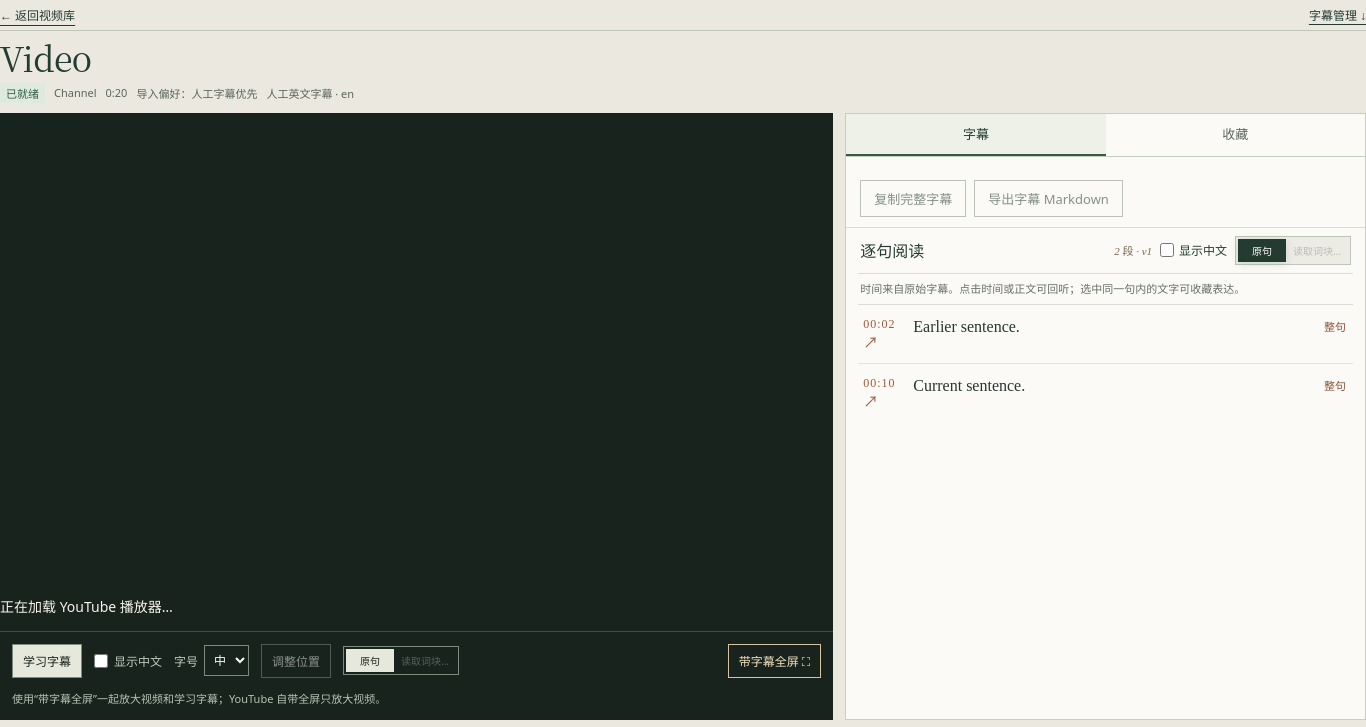
Test: offers undo only for a newly created favorite (false)
Expected: the list with class "transcript-list" is shown, [858,304,1353,720]
Click the 1st button with class "segment-mark-whole": (1335,326) [1320,312,1350,340]
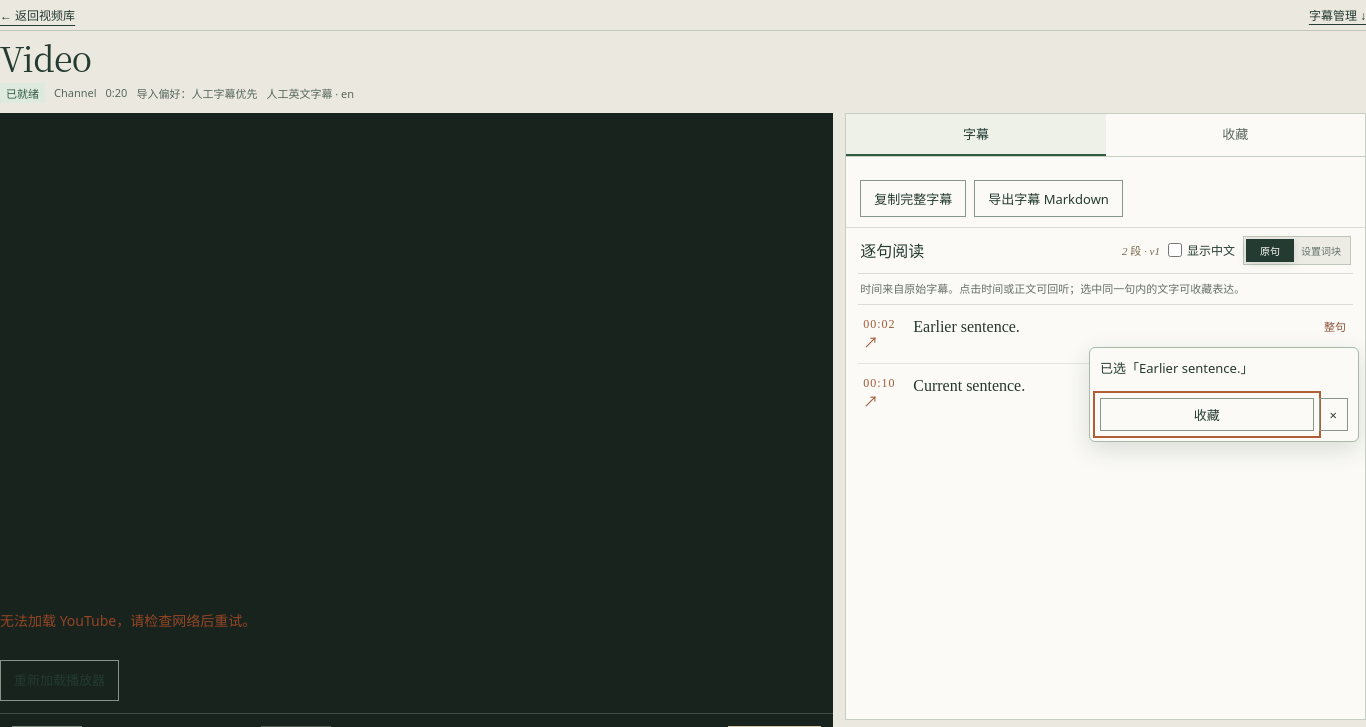
Click the button "收藏": (1207,415) [1100,398,1314,432]
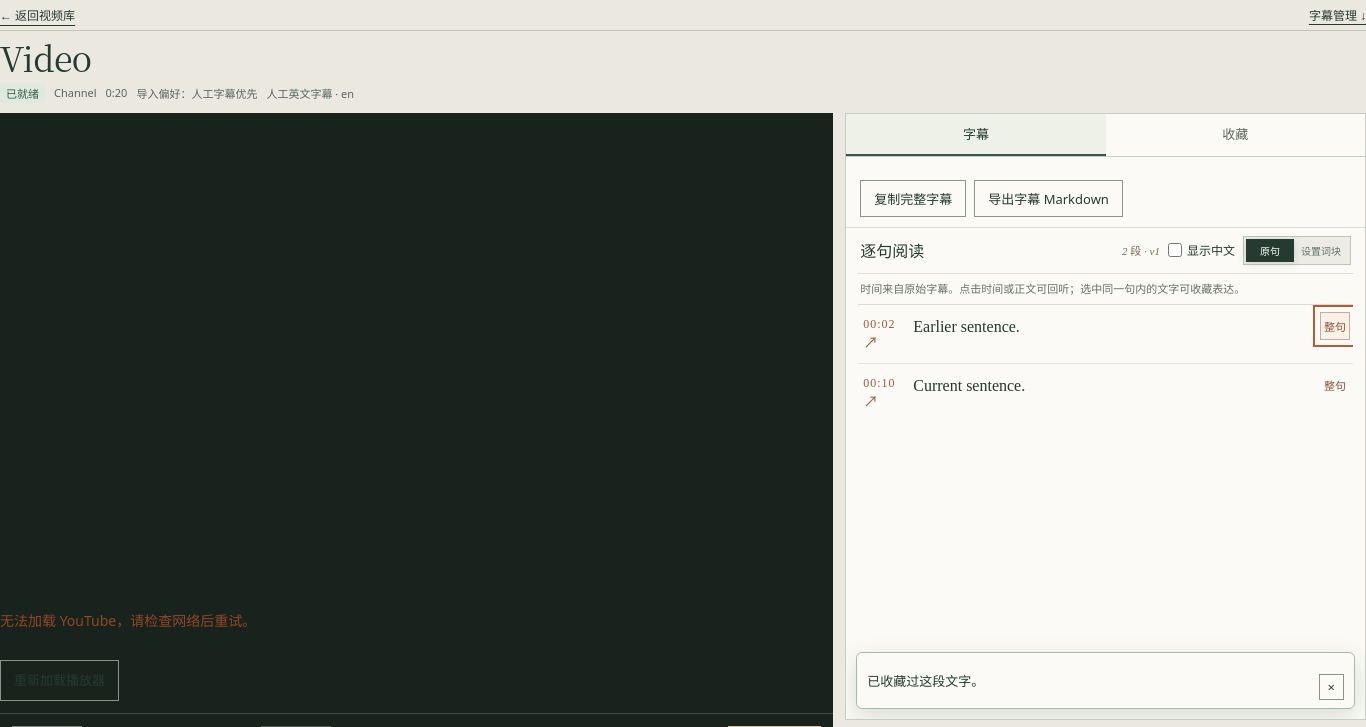
Now the dialog with class "reader-selection-menu" is gone
